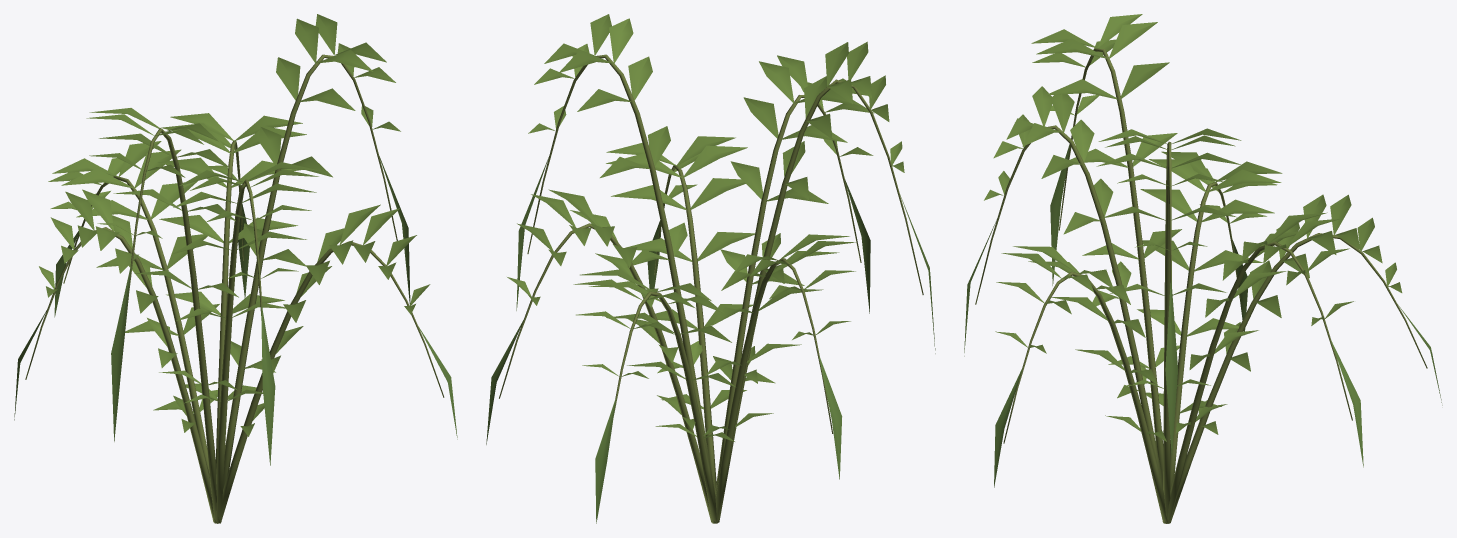
The model's file is fern_1_lod2.glb.
3 views of the same model, side by side, from view 1: azimuth 30°, elevation 25°; view 2: azimuth 150°, elevation 25°; view 3: azimuth 270°, elevation 25° (orthographic). The views are drawn at different scales.
Visible parts, largest first — view 1: fern_1_lod2; view 2: fern_1_lod2; view 3: fern_1_lod2.
Part boxes in pixels (x1=…): fern_1_lod2: x1=14, y1=14, x2=457, y2=523; fern_1_lod2: x1=486, y1=14, x2=935, y2=523; fern_1_lod2: x1=964, y1=14, x2=1442, y2=523.
Size of the model in its own units: 0.8883 by 1.08 by 1.05.
